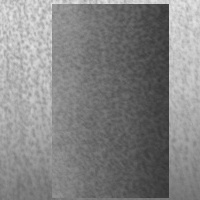pitted_surface: (1, 1, 199, 199), (52, 4, 169, 198)
